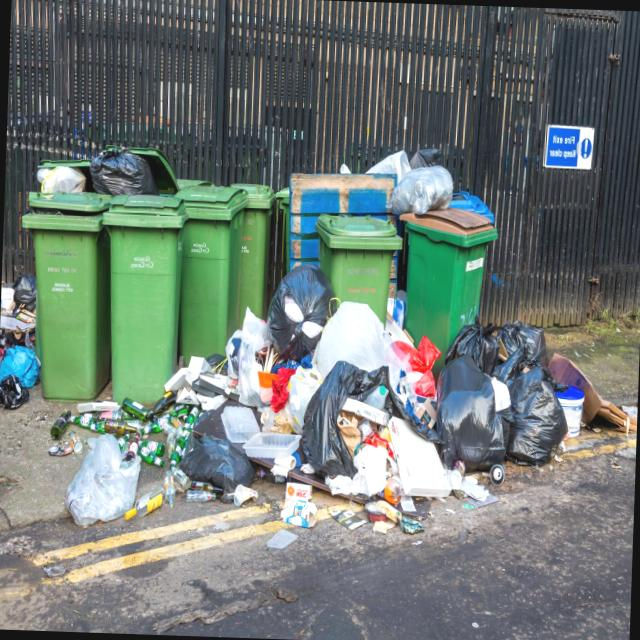garbage: (0, 139, 637, 539)
